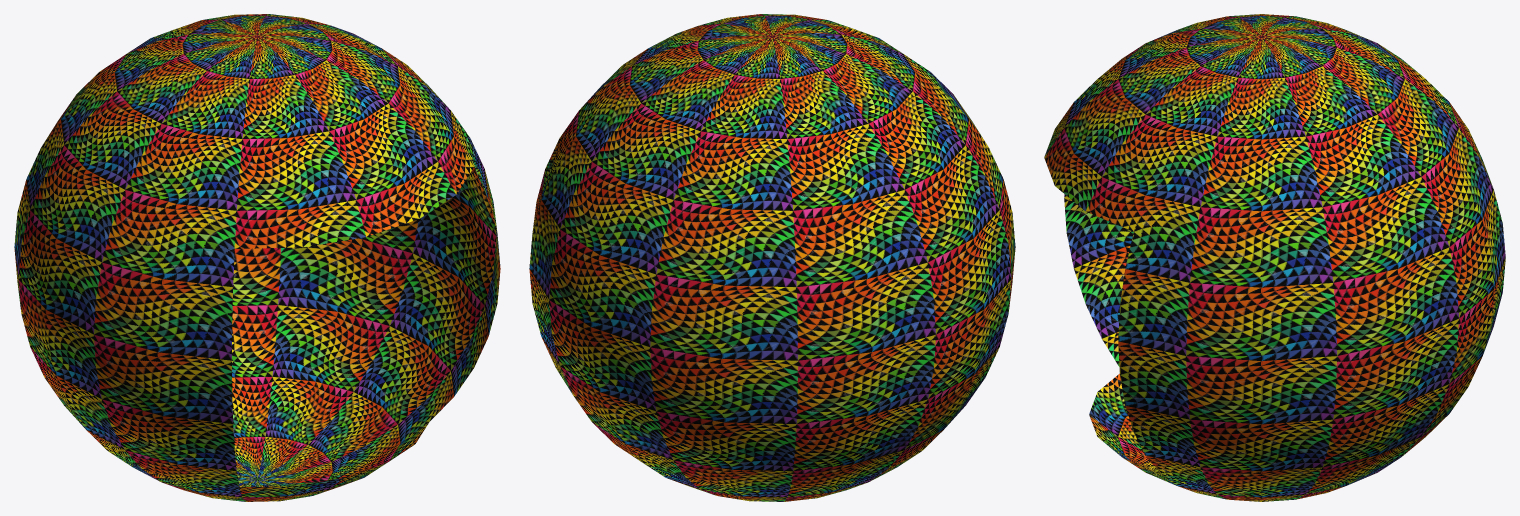
The model's file is testDome2.fbx.
3 renders of one model, left to right at view 1: azimuth 30°, elevation 25°; view 2: azimuth 150°, elevation 25°; view 3: azimuth 270°, elevation 25°, orthographic.
Visible parts, largest first — view 1: dome; view 2: dome; view 3: dome.
Part boxes in pixels (x1=…): dome: x1=14, y1=14, x2=500, y2=501; dome: x1=529, y1=14, x2=1015, y2=501; dome: x1=1044, y1=14, x2=1505, y2=501.
Bounding box in the file's own units: 8104 × 8104 × 7662.
1 material, 1 textured.
